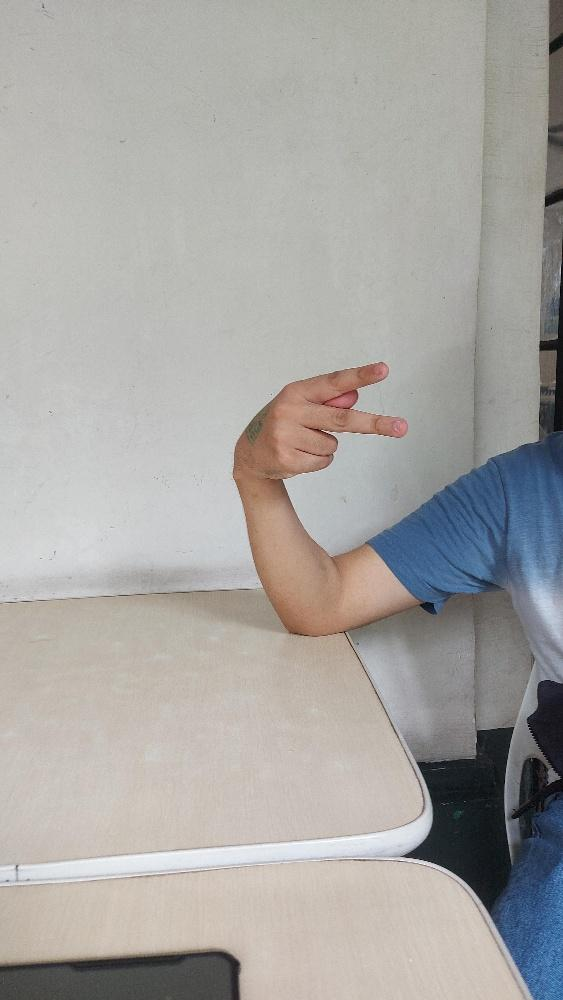k: (231, 361, 407, 479)
